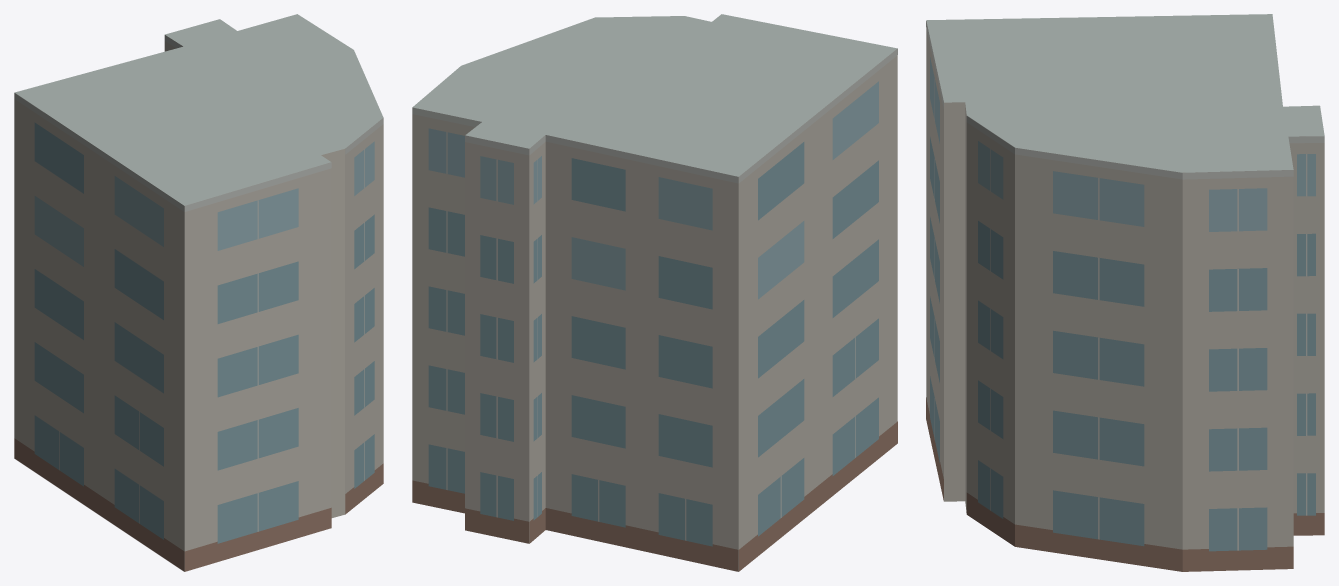
File: survey-upis-32697782.glb
3 renders of one model, left to right at view 1: azimuth 30°, elevation 25°; view 2: azimuth 150°, elevation 25°; view 3: azimuth 270°, elevation 25°, orthographic. The views are drawn at different scales.
Visible parts, largest first — view 1: survey-upis-32697782.tmp; view 2: survey-upis-32697782.tmp; view 3: survey-upis-32697782.tmp.
Part boxes in pixels (box(x1,y1,x2,y2)): survey-upis-32697782.tmp: box(14, 14, 383, 571); survey-upis-32697782.tmp: box(412, 14, 897, 571); survey-upis-32697782.tmp: box(926, 14, 1324, 571).
Bounding box in the file's own units: 12.3 × 14.4 × 13.04.
